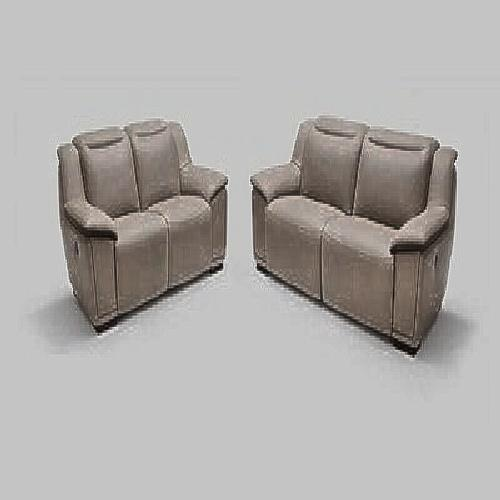sofa: (254, 123, 453, 340), (60, 129, 227, 305)
